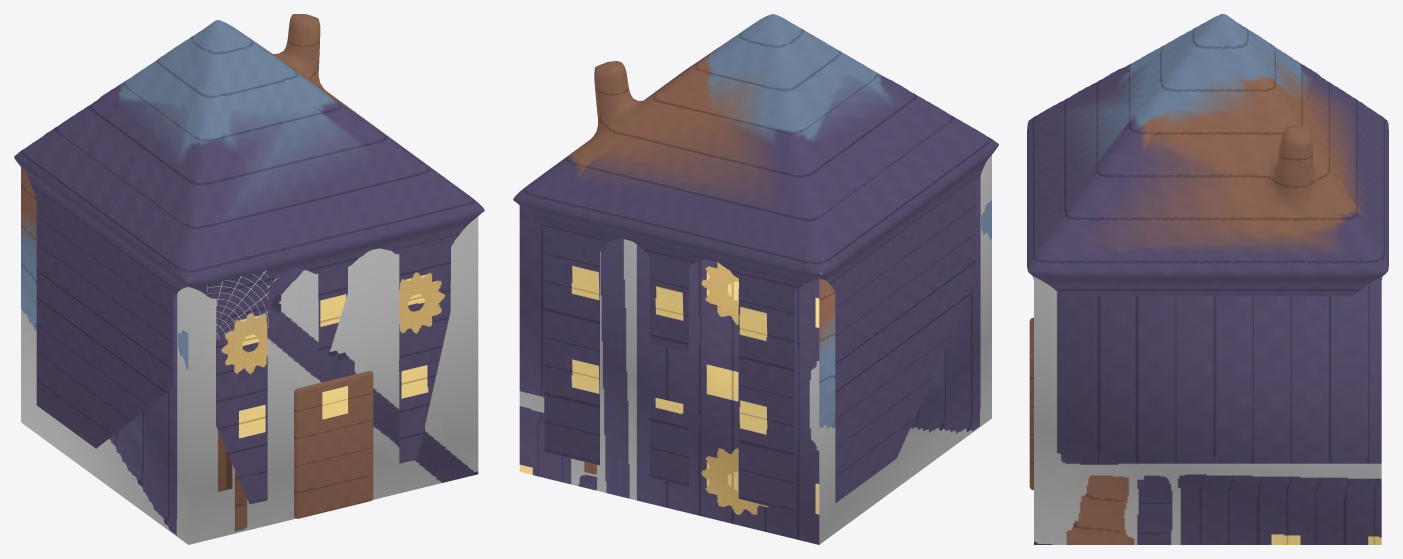
File: house_gear.glb
The picture shows the model from 3 angles, left to right: view 1: azimuth 30°, elevation 25°; view 2: azimuth 150°, elevation 25°; view 3: azimuth 270°, elevation 25°; orthographic projection. The views are drawn at different scales.
Visible parts, largest first — view 1: lod0, col, door, cobweb; view 2: lod0, col; view 3: col, lod0, door.
Part boxes in pixels (x1,y1,x2,y2): lod0: (14,14,484,503); col: (21,167,478,544); door: (294,371,373,518); cobweb: (207,270,268,340); lod0: (513,14,998,512); col: (519,155,991,544); col: (1034,277,1381,544); lod0: (1027,14,1388,296); door: (1029,317,1033,489).
Size of what is drawn, in the model's own units: 7.28 by 9.87 by 7.28.
Materials: 2 (2 with a texture image).
